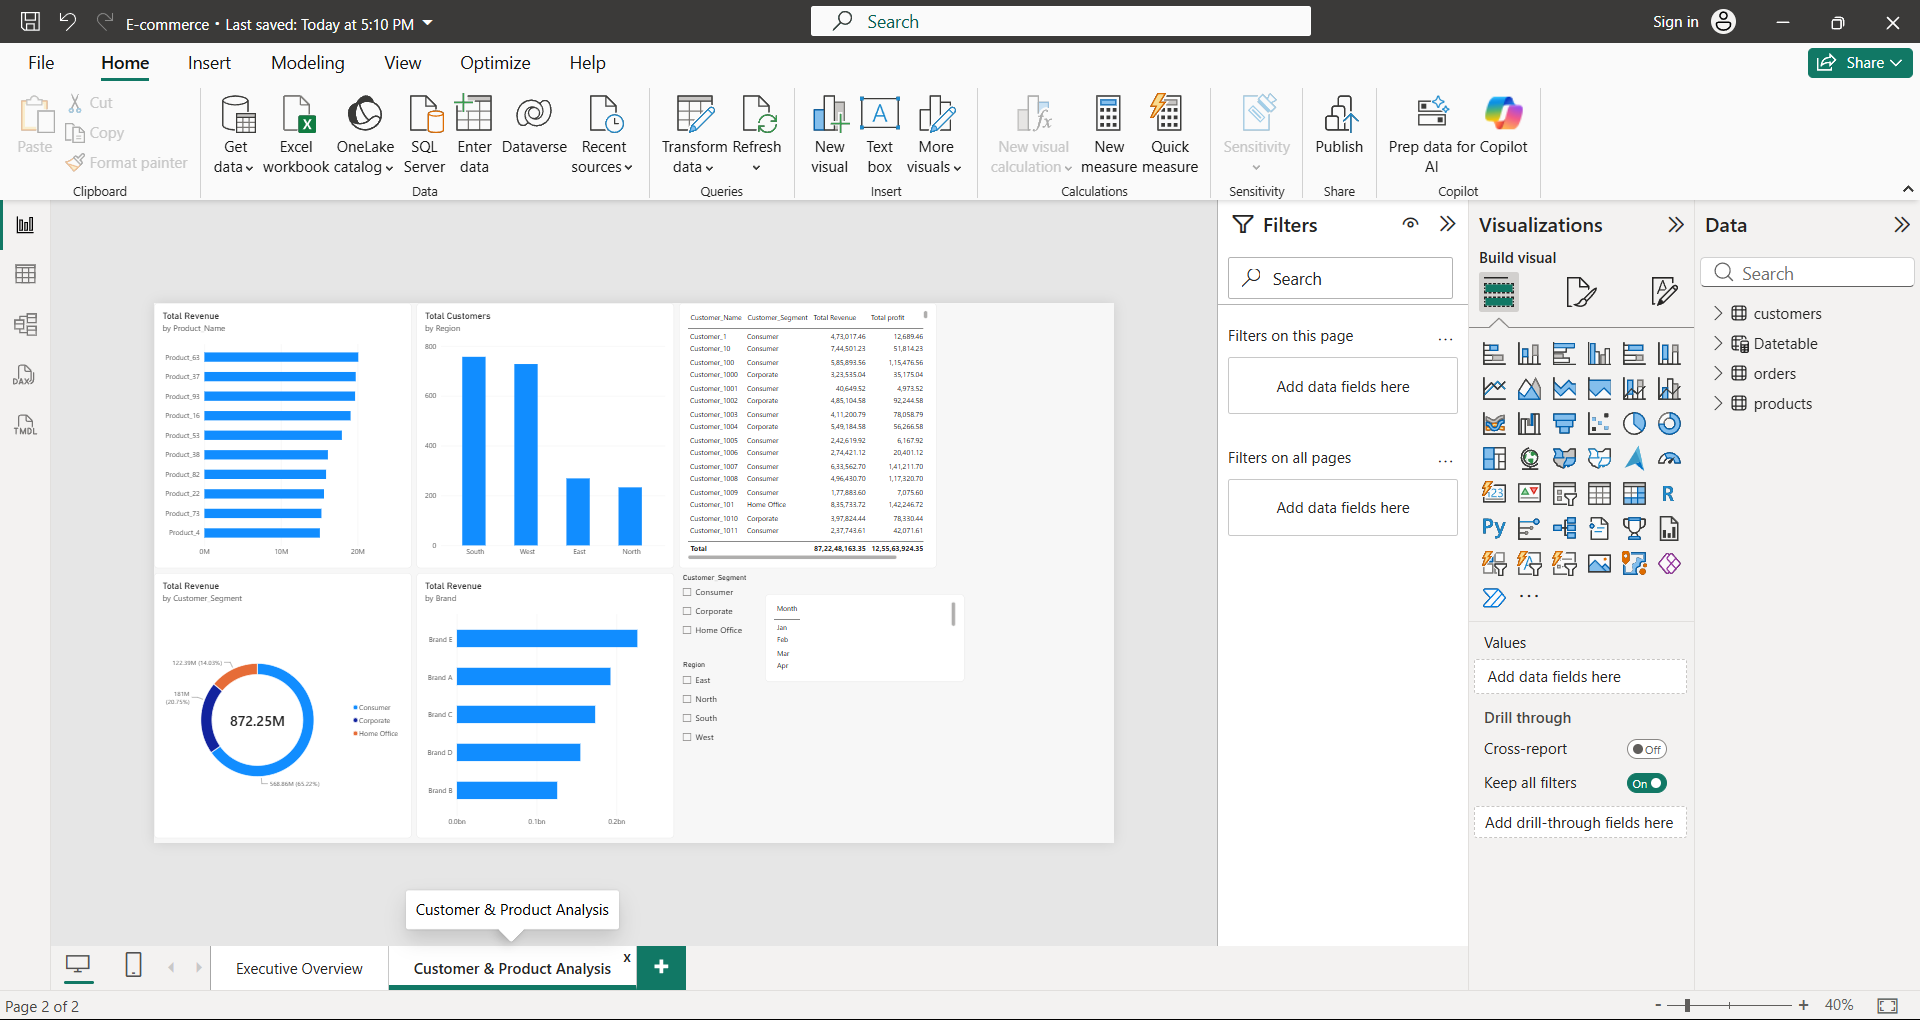

The page's visual inventory and layout, read from the dashboard file:
{"tool":"powerbi","page":{"name":"Customer & Product Analysis ","canvas":[1920,1080],"ordinal":1},"visuals":[{"type":"clusteredBarChart","fields":{"Category":["products.Product_Name"],"Y":["orders.Total Revenue"]},"box":[0,0,515,530],"z":1},{"type":"donutChart","fields":{"Category":["customers.Customer_Segment"],"Y":["orders.Total Revenue"]},"box":[0,540,515,530],"z":2},{"type":"columnChart","fields":{"Category":["customers.Region"],"Y":["orders.Total Customers"]},"box":[525,0,515,530],"z":3},{"type":"clusteredBarChart","fields":{"Category":["products.Brand"],"Y":["orders.Total Revenue"]},"box":[525,540,515,530],"z":4},{"type":"tableEx","fields":{"Values":["customers.Customer_Name","customers.Customer_Segment","orders.Total Revenue","orders.Total profit","customers.Region"]},"box":[1050,0,515,530],"z":5},{"type":"slicer","fields":{"Values":["customers.Customer_Segment"]},"box":[1050,540,397.5,175],"z":6},{"type":"slicer","fields":{"Values":["customers.Region"]},"box":[1050,715,398,355],"z":7},{"type":"tableEx","fields":{"Values":["Datetable.Month"]},"box":[1223.3,581.7,398,175],"z":8}]}

Visuals, with their boxes on the page's 1920x1080 design canvas (x1, y1, x2, y2). These are canvas units, not pixel positions in the 1920x1020 screenshot, which may show the page scaled, cropped or inside an application window:
clusteredBarChart - products.Product_Name x orders.Total Revenue: <box>0,0,515,530</box>
donutChart - customers.Customer_Segment x orders.Total Revenue: <box>0,540,515,1070</box>
columnChart - customers.Region x orders.Total Customers: <box>525,0,1040,530</box>
clusteredBarChart - products.Brand x orders.Total Revenue: <box>525,540,1040,1070</box>
tableEx - customers.Customer_Name x customers.Customer_Segment: <box>1050,0,1565,530</box>
slicer - customers.Customer_Segment: <box>1050,540,1448,715</box>
slicer - customers.Region: <box>1050,715,1448,1070</box>
tableEx - Datetable.Month: <box>1223,582,1621,757</box>
